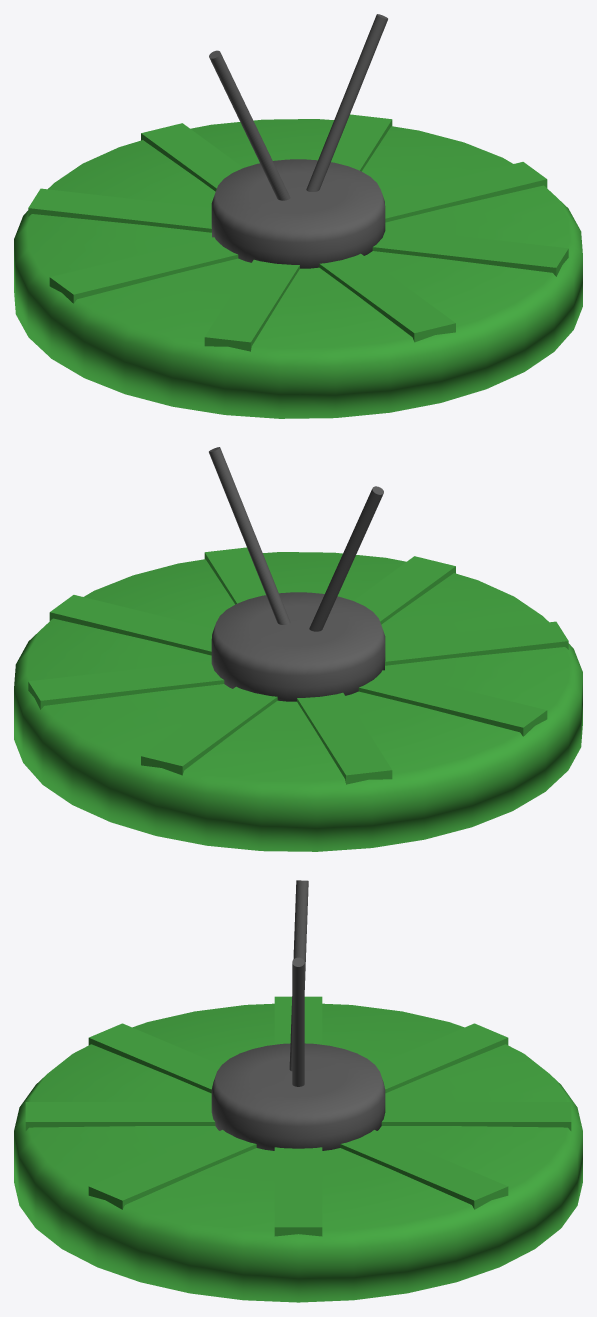
Rendered from landmine.glb.
3 renders of one model, top to bottom at view 1: azimuth 30°, elevation 25°; view 2: azimuth 150°, elevation 25°; view 3: azimuth 270°, elevation 25°, orthographic.
Parts seen in each view (by area): view 1: Cylinder, Cylinder.001, Cube.003, Cube, Cube.001, Cube.002, Cylinder.002, Cylinder.003; view 2: Cylinder, Cylinder.001, Cube.002, Cube, Cube.001, Cube.003, Cylinder.002, Cylinder.003; view 3: Cylinder, Cylinder.001, Cube.001, Cube.002, Cube.003, Cube, Cylinder.002, Cylinder.003.
Part boxes in pixels (x1,y1,x2,y2): Cylinder: (14, 119, 582, 418); Cylinder.001: (211, 159, 385, 268); Cube.003: (28, 188, 568, 276); Cube: (49, 162, 547, 303); Cube.001: (141, 123, 455, 342); Cube.002: (204, 114, 392, 351); Cylinder.002: (306, 14, 387, 191); Cylinder.003: (209, 50, 290, 200); Cylinder: (14, 552, 582, 851); Cylinder.001: (211, 592, 385, 701); Cube.002: (28, 621, 568, 709); Cube: (49, 595, 547, 736); Cube.001: (141, 556, 455, 775); Cube.003: (204, 547, 392, 784); Cylinder.002: (209, 447, 290, 624); Cylinder.003: (309, 486, 383, 631); Cylinder: (14, 1003, 582, 1302); Cylinder.001: (211, 1043, 385, 1150); Cube.001: (25, 1102, 571, 1130); Cube.002: (88, 1023, 508, 1209); Cube.003: (88, 1023, 508, 1209); Cube: (274, 996, 322, 1236); Cylinder.002: (292, 957, 304, 1086); Cylinder.003: (289, 880, 308, 1071).
Size of the model in its own units: 0.5388 by 0.2785 by 0.5388.
